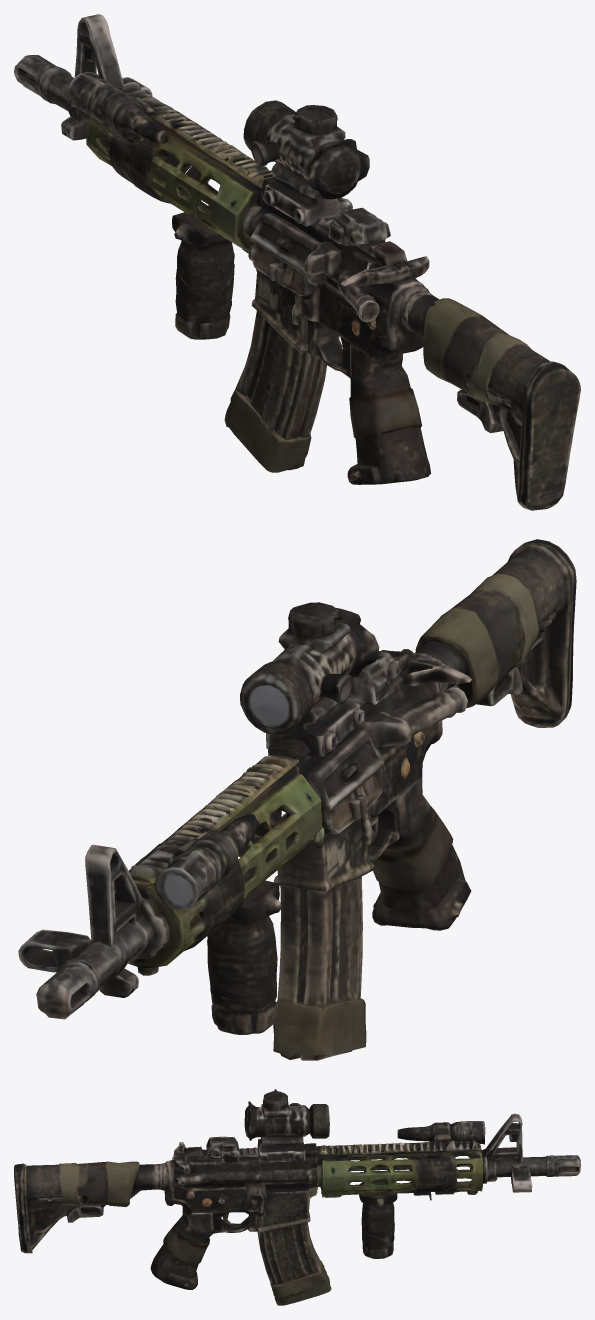
Rendered from rifle.glb.
3 views of the same model, one above another, from view 1: azimuth 30°, elevation 25°; view 2: azimuth 150°, elevation 25°; view 3: azimuth 270°, elevation 25° (orthographic). The views are drawn at different scales.
Visible parts, largest first — view 1: rifle; view 2: rifle; view 3: rifle.
Boxes of the visible parts, left/top/right/bottom form: rifle: left=14, top=14, right=580, bottom=510; rifle: left=18, top=539, right=576, bottom=1060; rifle: left=14, top=1089, right=580, bottom=1305.
Bounding box in the file's own units: 0.1432 × 0.3843 × 0.92.
1 material, 1 textured.
